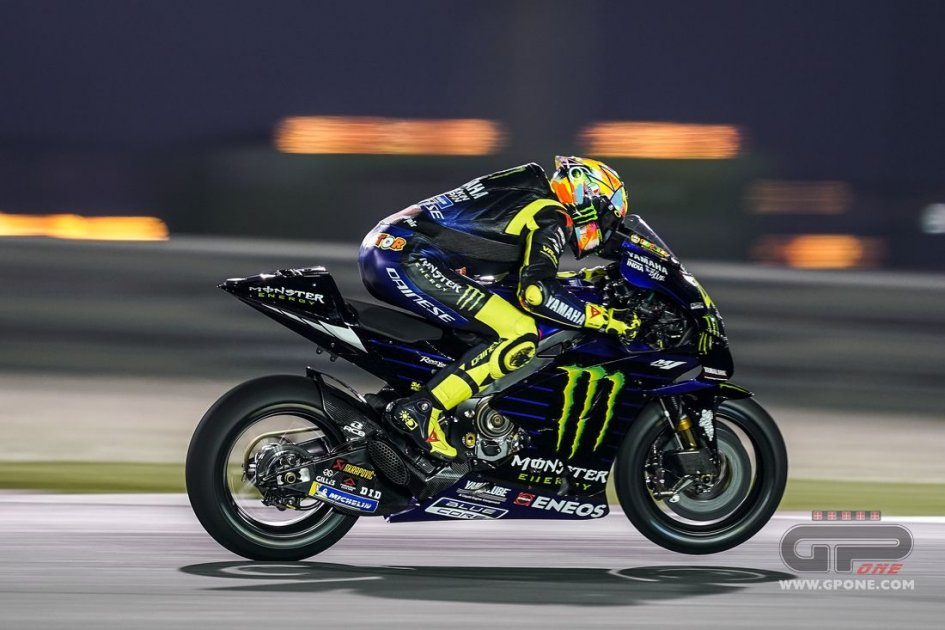helmet: (535, 136, 627, 256)
